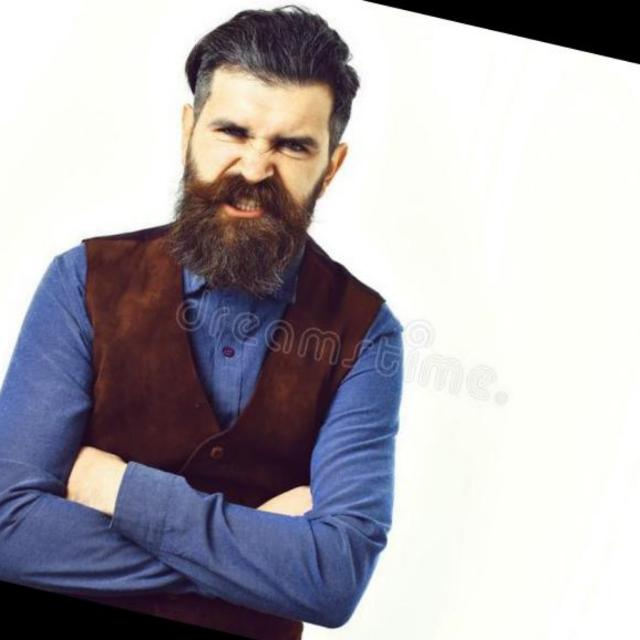Angry: (152, 9, 336, 298)
